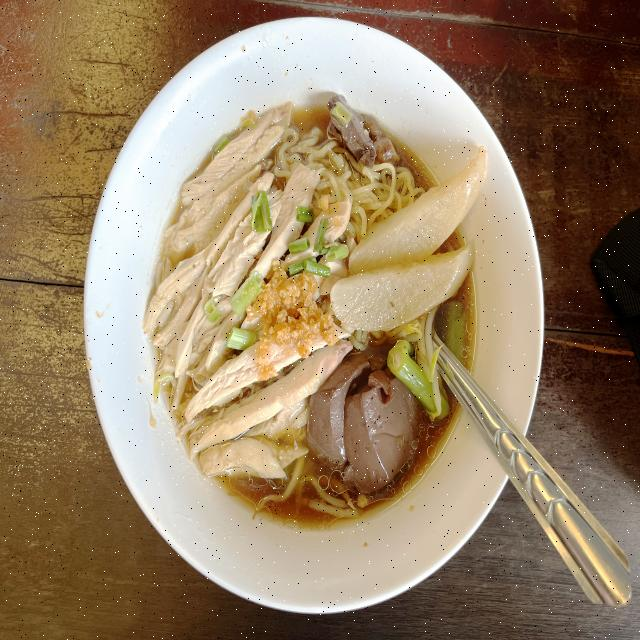boiled_chicken_blood_jelly: (316, 350, 406, 476)
chicken_shredded: (155, 118, 327, 466)
daikon_radish: (350, 146, 487, 274), (332, 254, 468, 329)
noodle: (132, 66, 550, 565)
